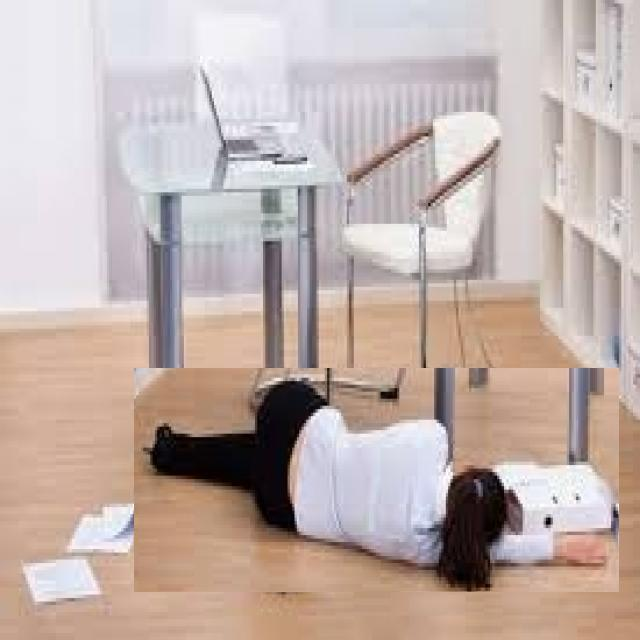Fall: (130, 378, 616, 607)
